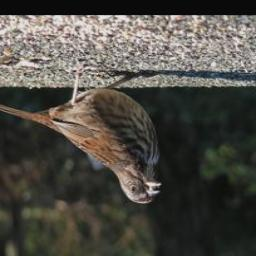Sparrow: (0, 64, 166, 209)
